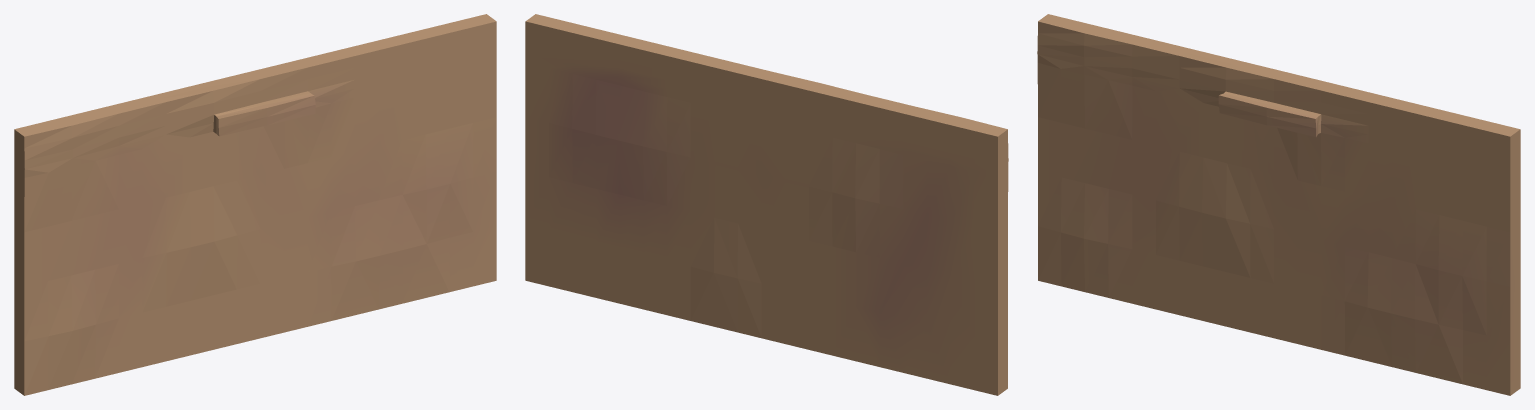
File: shelf_door.glb
3 views of the same model, side by side, from view 1: azimuth 30°, elevation 25°; view 2: azimuth 150°, elevation 25°; view 3: azimuth 330°, elevation 25° (orthographic).
Visible parts, largest first — view 1: Cube; view 2: Cube; view 3: Cube.
Part boxes in pixels (bbox=[...]): Cube: bbox=[14, 14, 496, 395]; Cube: bbox=[525, 14, 1008, 395]; Cube: bbox=[1037, 14, 1520, 395].
Bounding box in the file's own units: 0.7849 × 0.4118 × 0.0526.
